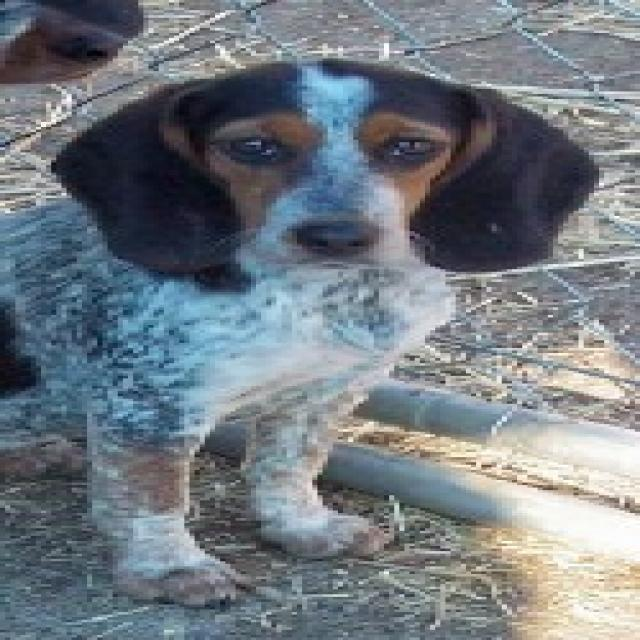dogs: (3, 55, 606, 610)
